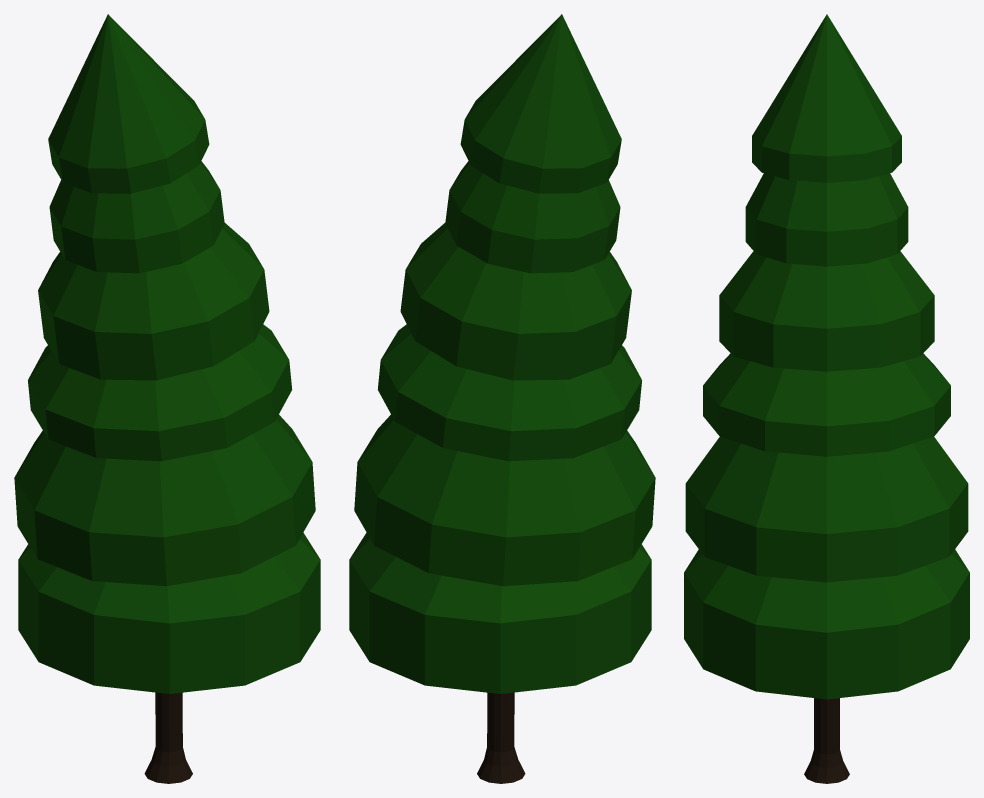
File: tree3.2.fbx
3 views of the same model, side by side, from view 1: azimuth 30°, elevation 25°; view 2: azimuth 150°, elevation 25°; view 3: azimuth 270°, elevation 25° (orthographic). The views are drawn at different scales.
Parts seen in each view (by area): view 1: Tree; view 2: Tree; view 3: Tree.
Boxes of the visible parts, left/top/right/bottom form: Tree: left=14, top=14, right=320, bottom=783; Tree: left=349, top=14, right=655, bottom=783; Tree: left=684, top=14, right=969, bottom=783.
Bounding box in the file's own units: 495 × 1378 × 488.
